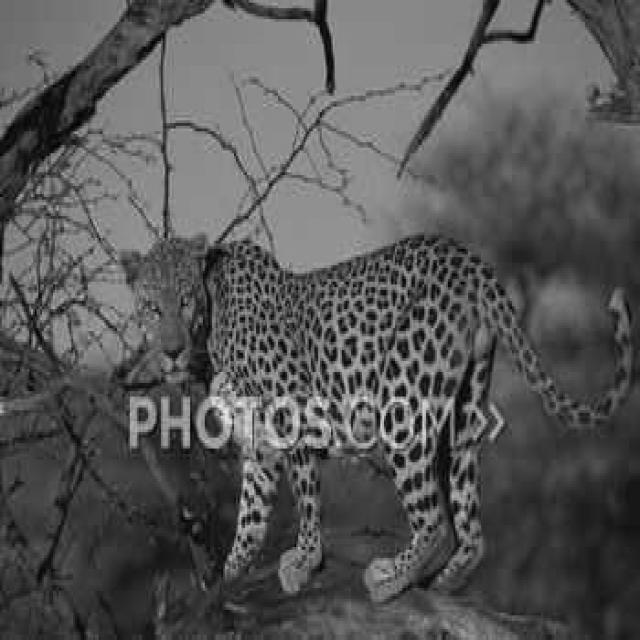Leopard: (117, 227, 635, 607)
